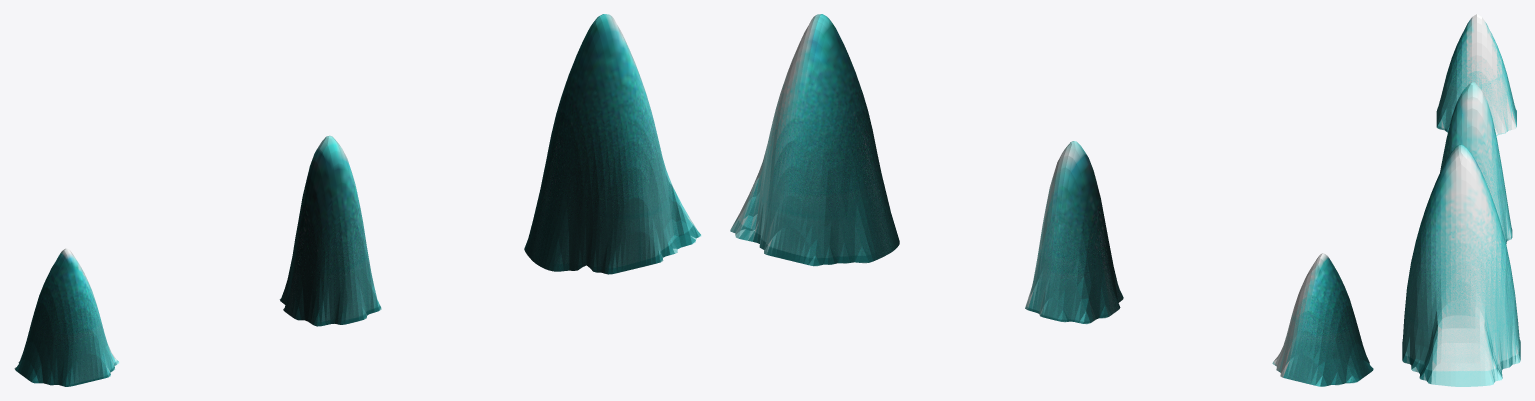
Rendered from icerberg.fbx.
3 renders of one model, left to right at view 1: azimuth 30°, elevation 25°; view 2: azimuth 150°, elevation 25°; view 3: azimuth 270°, elevation 25°, orthographic. The views are drawn at different scales.
Parts seen in each view (by area): view 1: Icebergs; view 2: Icebergs; view 3: Icebergs.
Part boxes in pixels (x1=…): Icebergs: x1=14, y1=14, x2=701, y2=386; Icebergs: x1=730, y1=14, x2=1373, y2=386; Icebergs: x1=1402, y1=14, x2=1520, y2=386.
Size of the model in its own units: 5109 by 1719 by 892.
1 material, 1 textured.
